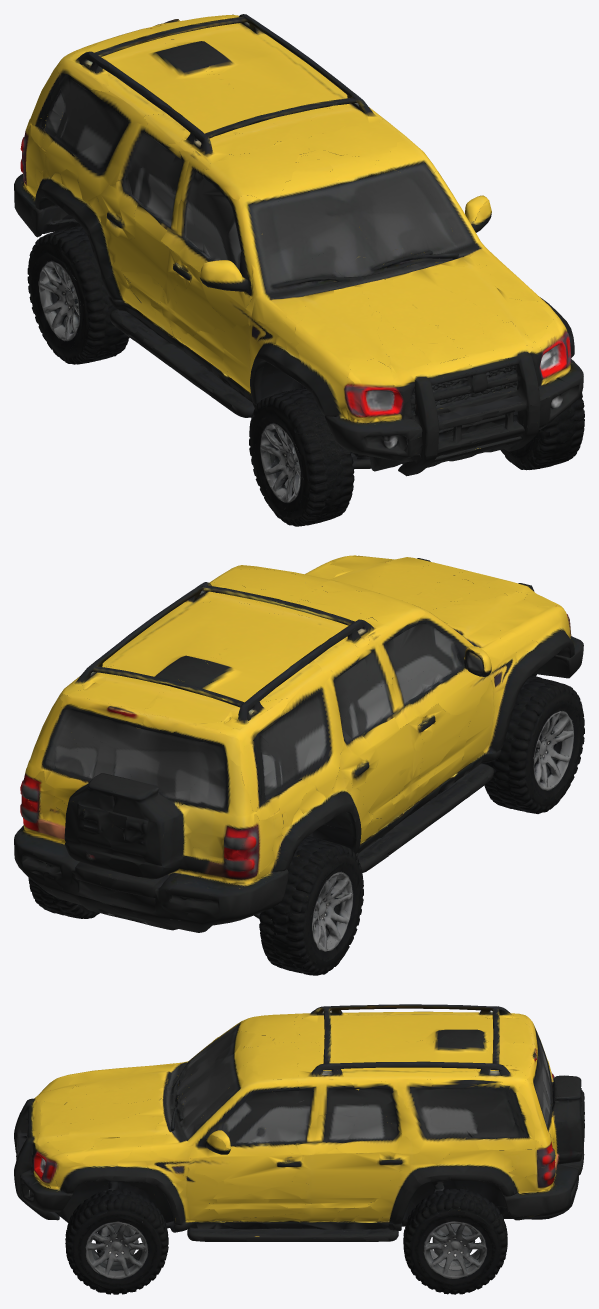
Rendered from atlas-overland.glb.
The picture shows the model from 3 angles, top to bottom: view 1: azimuth 30°, elevation 25°; view 2: azimuth 150°, elevation 25°; view 3: azimuth 270°, elevation 25°; orthographic projection. The views are drawn at different scales.
Visible parts, largest first — view 1: atlas-overland; view 2: atlas-overland; view 3: atlas-overland.
Part boxes in pixels (<box>): atlas-overland: <box>14,14,584,526</box>; atlas-overland: <box>14,555,584,975</box>; atlas-overland: <box>14,1004,584,1294</box>.
Size of the model in its own units: 2.24 by 2.05 by 5.
Materials: 1 (1 with a texture image).
